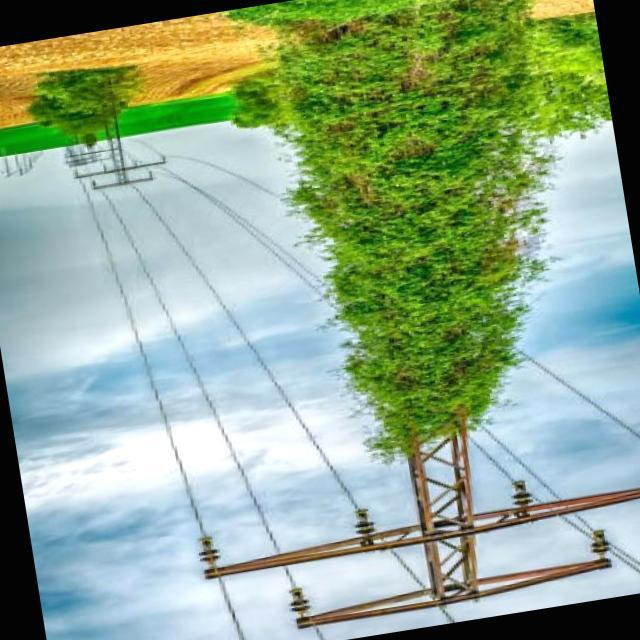critical vegetation: (214, 14, 629, 632), (284, 11, 586, 475)
